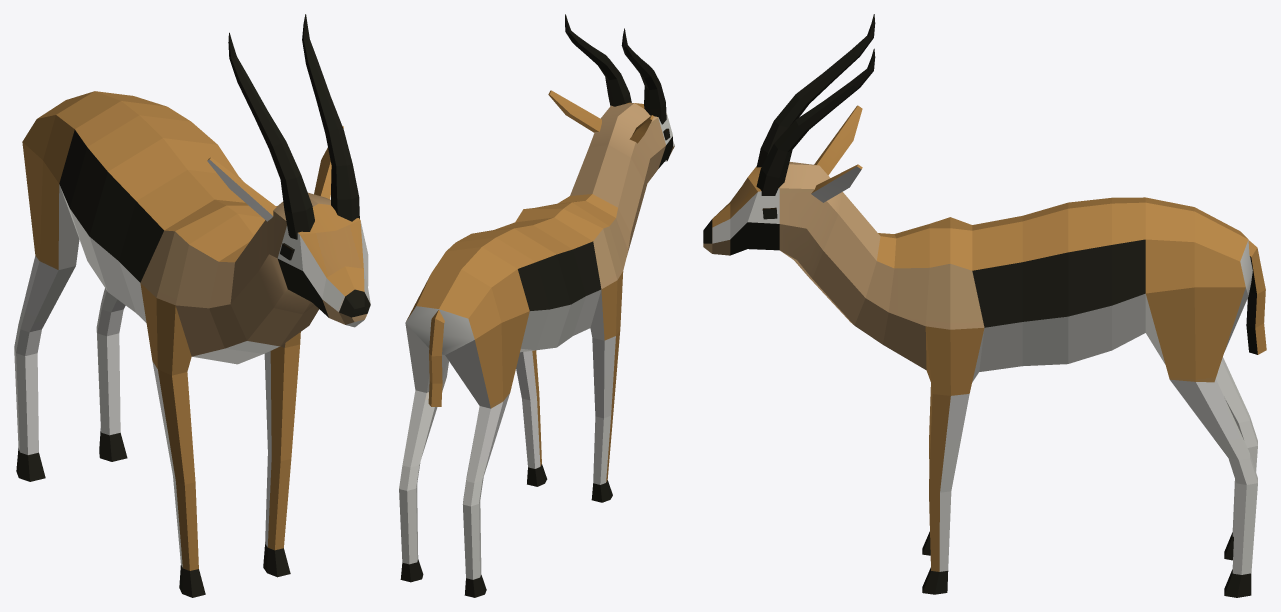
File: animals-gazelle-106.glb
3 views of the same model, side by side, from view 1: azimuth 30°, elevation 25°; view 2: azimuth 150°, elevation 25°; view 3: azimuth 270°, elevation 25° (orthographic). The views are drawn at different scales.
Parts seen in each view (by area): view 1: Geo_Gazelle; view 2: Geo_Gazelle; view 3: Geo_Gazelle.
Boxes of the visible parts, x1,y1,x2,y2 form: Geo_Gazelle: (14,14,370,597); Geo_Gazelle: (399,14,674,597); Geo_Gazelle: (703,14,1266,597).
Size of the model in its own units: 36.52 by 139 by 131.
Materials: 1 (1 with a texture image).
